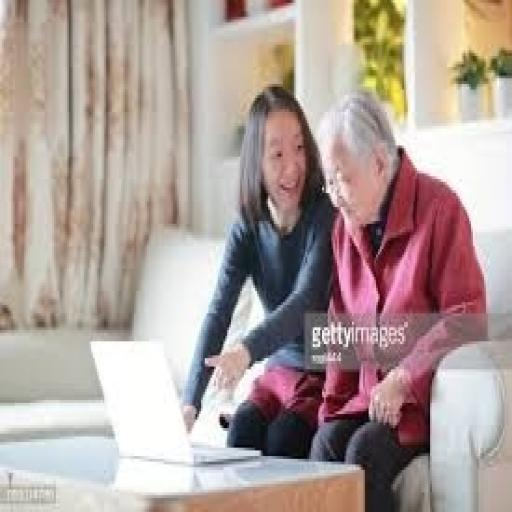using_laptop: (88, 336, 262, 467)
